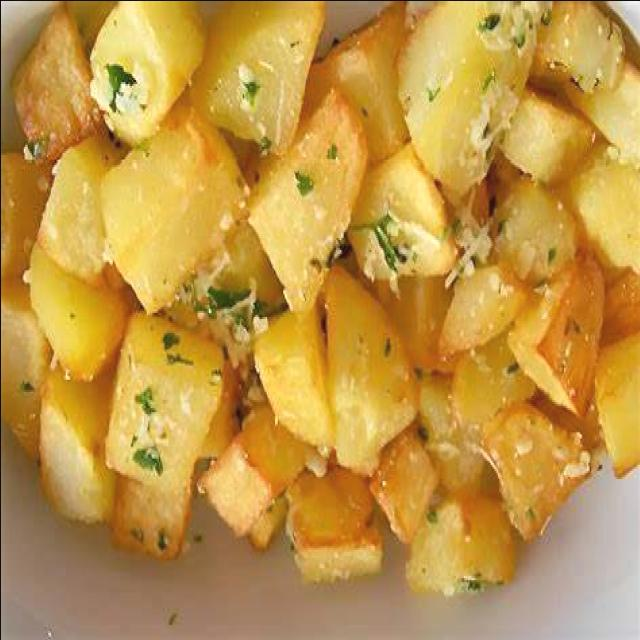kentang rebus: (394, 0, 550, 207), (103, 310, 225, 557), (247, 87, 366, 310), (190, 0, 325, 152), (321, 257, 416, 470)
